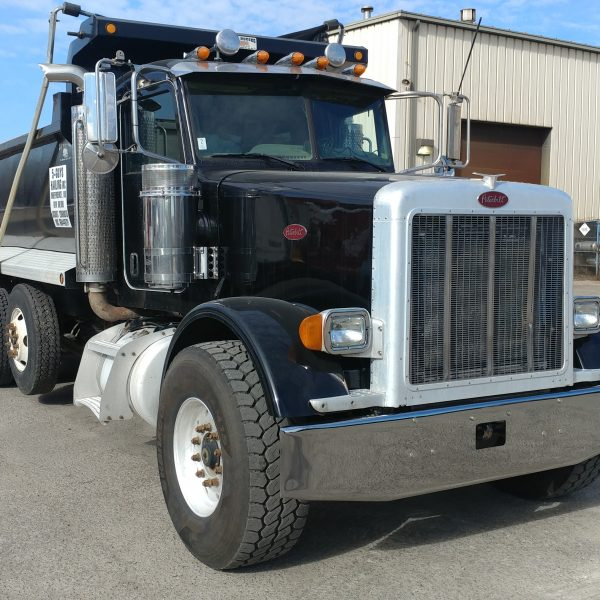truck: (1, 11, 599, 573)
